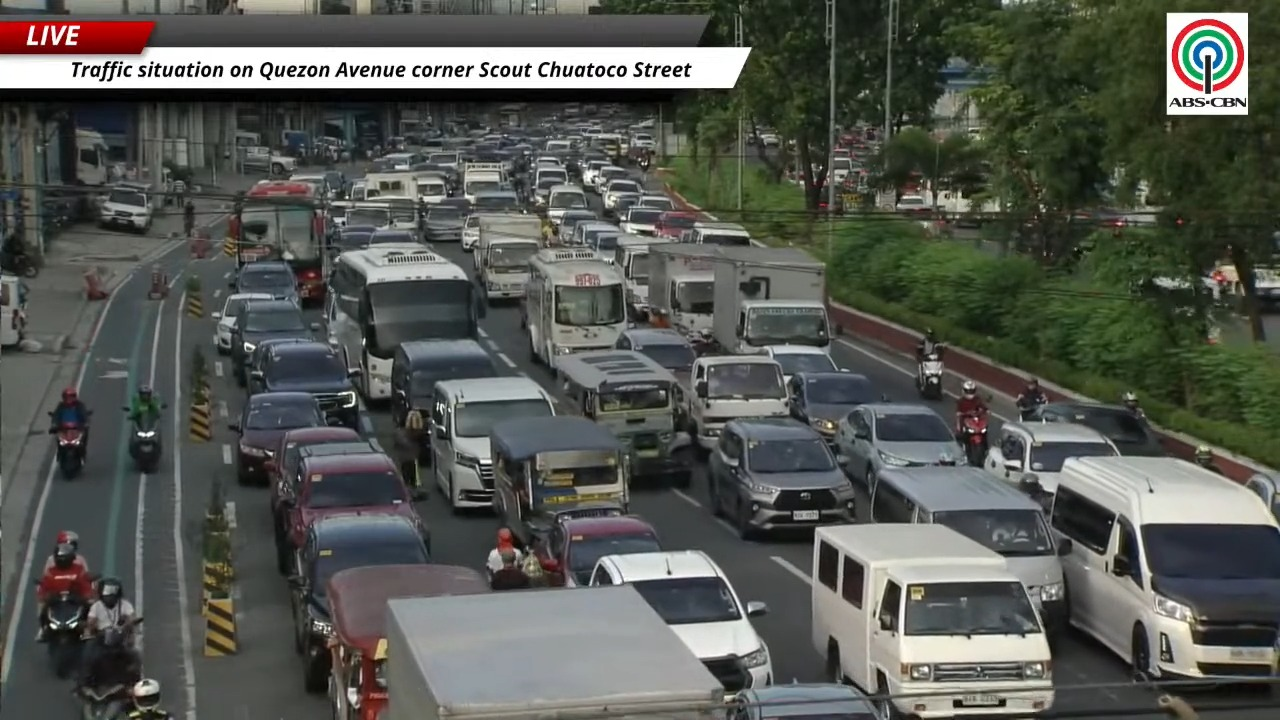bus: (325, 244, 486, 400), (521, 248, 626, 367), (230, 181, 327, 302)
car: (589, 550, 772, 692), (289, 513, 430, 692), (707, 418, 855, 539), (276, 452, 428, 555), (272, 436, 384, 574), (836, 402, 965, 489), (983, 422, 1118, 501), (249, 341, 359, 428), (229, 392, 326, 484), (265, 425, 362, 515), (545, 516, 663, 587), (230, 299, 319, 387), (1027, 401, 1167, 456), (787, 371, 883, 443), (726, 683, 885, 719), (615, 327, 696, 377), (245, 338, 313, 393), (212, 293, 272, 354), (230, 260, 299, 304), (764, 345, 840, 381), (98, 185, 152, 233), (571, 223, 622, 261), (1245, 473, 1279, 520), (424, 203, 465, 241), (555, 209, 598, 244), (565, 220, 621, 245), (601, 178, 642, 212), (331, 225, 377, 254), (619, 204, 662, 235), (656, 211, 697, 241), (470, 190, 521, 212), (366, 228, 420, 246), (605, 192, 641, 217), (636, 194, 675, 212)
motorcycle: (43, 592, 86, 678), (128, 413, 161, 473), (51, 422, 84, 479), (80, 683, 128, 719), (959, 413, 988, 466), (915, 352, 944, 401), (0, 250, 38, 278), (1017, 394, 1046, 420)
truck: (811, 523, 1054, 719), (380, 585, 724, 719), (707, 246, 830, 353), (673, 354, 789, 456), (649, 243, 719, 336), (473, 213, 541, 300), (463, 213, 541, 271), (75, 127, 110, 187), (461, 162, 506, 202), (364, 171, 418, 202)
